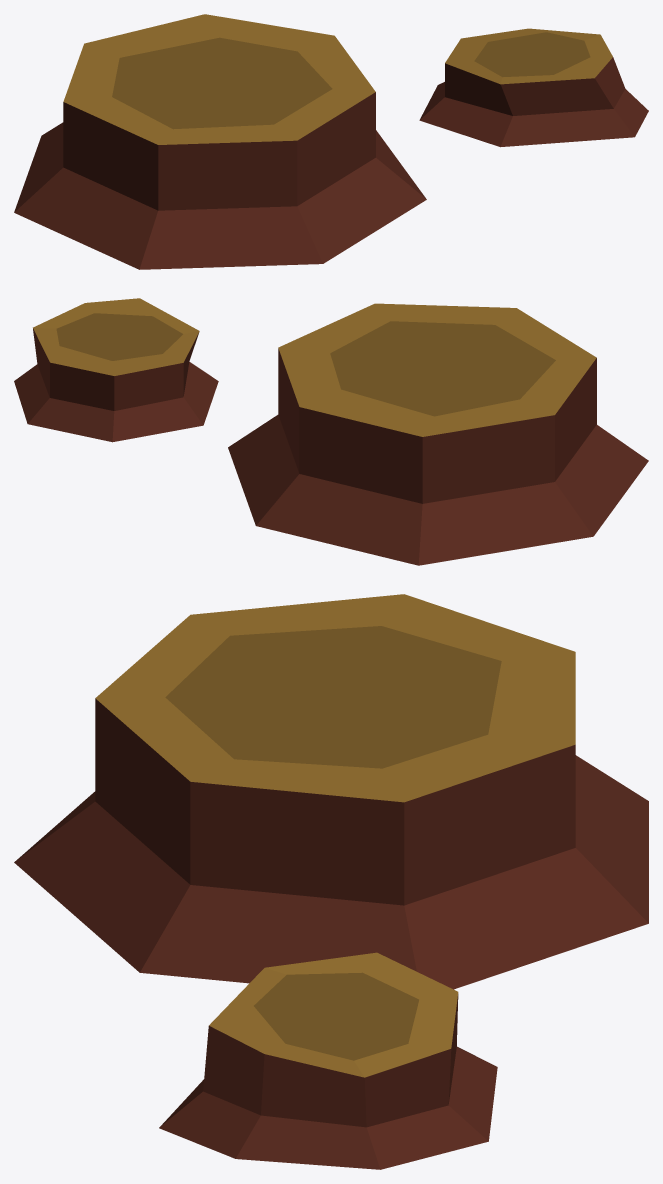
Rendered from tree_stump.fbx.
3 renders of one model, top to bottom at view 1: azimuth 30°, elevation 25°; view 2: azimuth 150°, elevation 25°; view 3: azimuth 270°, elevation 25°, orthographic. The views are drawn at different scales.
Visible parts, largest first — view 1: pasted__Cylinder.032, pasted__Cylinder.034; view 2: pasted__Cylinder.032, pasted__Cylinder.034; view 3: pasted__Cylinder.032, pasted__Cylinder.034.
Part boxes in pixels (x1=…): pasted__Cylinder.032: x1=14, y1=14, x2=426, y2=269; pasted__Cylinder.034: x1=419, y1=28, x2=648, y2=147; pasted__Cylinder.032: x1=228, y1=303, x2=648, y2=565; pasted__Cylinder.034: x1=14, y1=298, x2=218, y2=442; pasted__Cylinder.032: x1=14, y1=594, x2=648, y2=989; pasted__Cylinder.034: x1=159, y1=952, x2=497, y2=1169.
Bounding box in the file's own units: 194 × 34.67 × 117.
